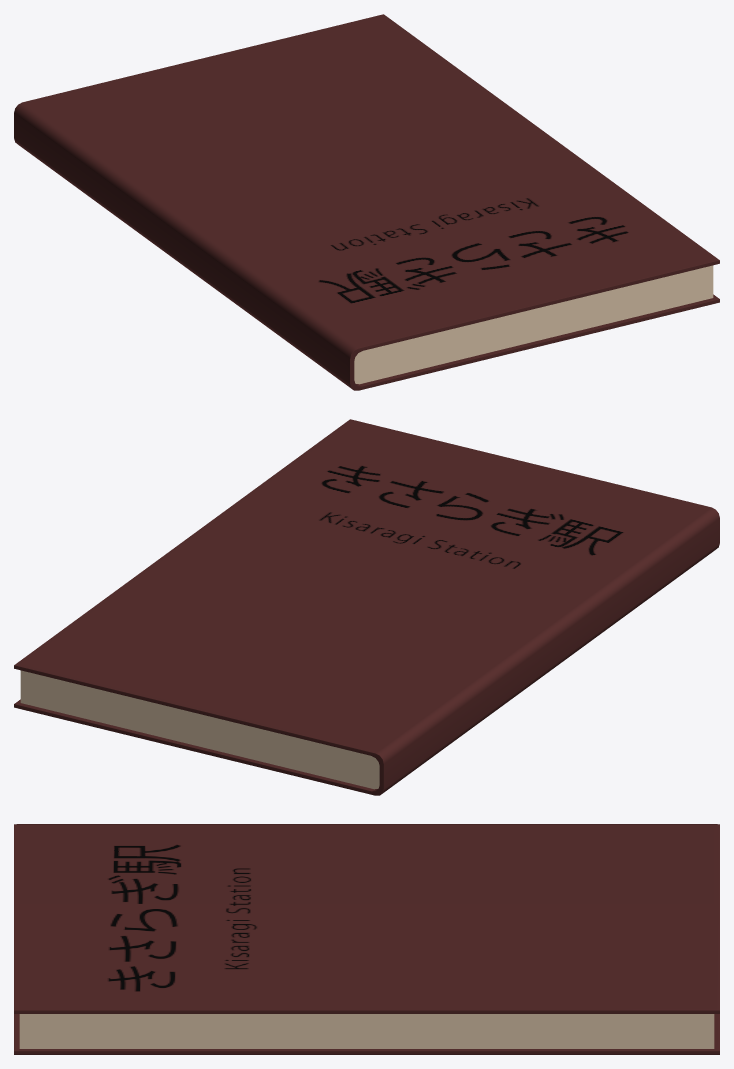
Rendered from Book.fbx.
3 views of the same model, one above another, from view 1: azimuth 30°, elevation 25°; view 2: azimuth 150°, elevation 25°; view 3: azimuth 270°, elevation 25° (orthographic). The views are drawn at different scales.
Parts seen in each view (by area): view 1: Book; view 2: Book; view 3: Book.
Boxes of the visible parts, x1,y1,x2,y2 form: Book: (14,14,719,390); Book: (14,419,719,795); Book: (14,824,719,1054).
Bounding box in the file's own units: 933 × 103 × 1468.
3 materials, 1 textured.
